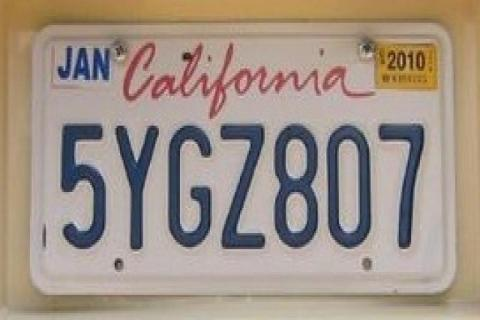LicensePlate: (24, 10, 463, 306)
